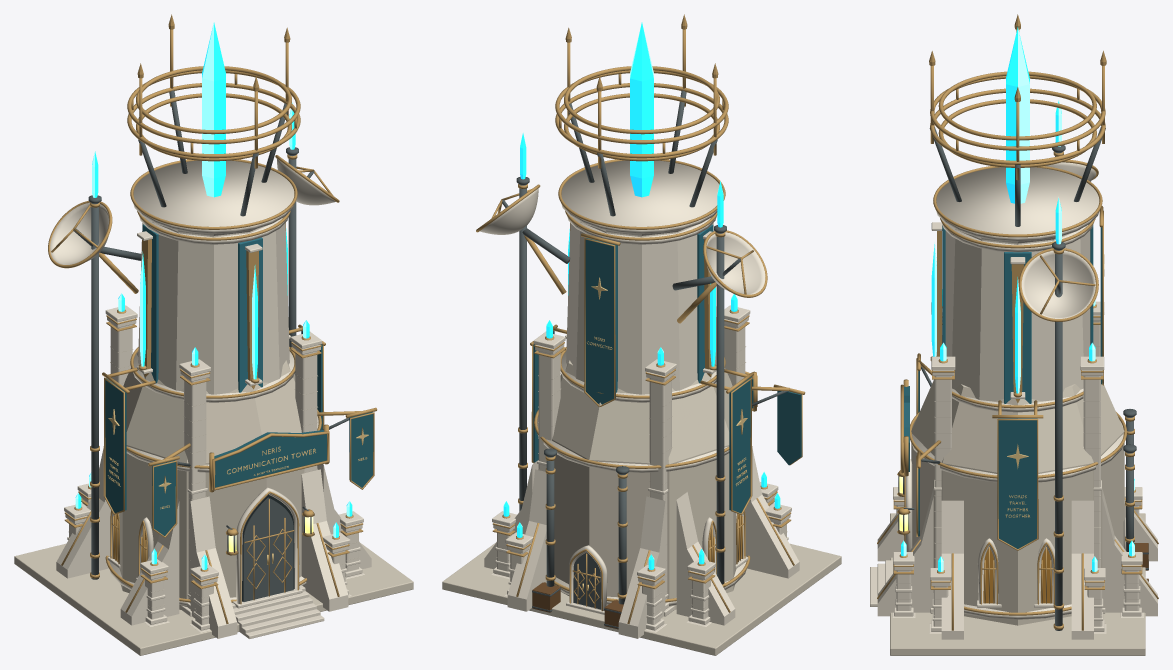
Rendered from Neris-Communication-Tower.glb.
The picture shows the model from 3 angles, left to right: view 1: azimuth 30°, elevation 25°; view 2: azimuth 150°, elevation 25°; view 3: azimuth 270°, elevation 25°; orthographic projection.
Visible parts, largest first — view 1: Pale Carved Stone, Ivory Limestone, Aged Gold, Patinated Iron, Neris Teal Banner, Teal Enamel Roof, Cyan Relay Crystal, Crystal Bright Facets, Polished Gold Edge; view 2: Pale Carved Stone, Ivory Limestone, Aged Gold, Patinated Iron, Neris Teal Banner, Cyan Relay Crystal, Teal Enamel Roof, Dark Walnut; view 3: Pale Carved Stone, Ivory Limestone, Aged Gold, Neris Teal Banner, Patinated Iron, Teal Enamel Roof, Cyan Relay Crystal, Crystal Bright Facets, Amber Window Glass.
Part boxes in pixels (x1=…): Pale Carved Stone: x1=50, y1=158, x2=371, y2=638; Ivory Limestone: x1=14, y1=346, x2=413, y2=655; Aged Gold: x1=48, y1=14, x2=377, y2=623; Patinated Iron: x1=73, y1=90, x2=358, y2=601; Neris Teal Banner: x1=105, y1=330, x2=373, y2=535; Teal Enamel Roof: x1=142, y1=224, x2=262, y2=392; Cyan Relay Crystal: x1=75, y1=22, x2=352, y2=569; Crystal Bright Facets: x1=75, y1=22, x2=349, y2=569; Polished Gold Edge: x1=107, y1=409, x2=368, y2=564; Pale Carved Stone: x1=479, y1=160, x2=799, y2=638; Ivory Limestone: x1=442, y1=346, x2=841, y2=655; Aged Gold: x1=476, y1=14, x2=805, y2=623; Patinated Iron: x1=502, y1=90, x2=788, y2=628; Neris Teal Banner: x1=533, y1=238, x2=801, y2=513; Cyan Relay Crystal: x1=503, y1=22, x2=780, y2=569; Teal Enamel Roof: x1=616, y1=224, x2=713, y2=392; Dark Walnut: x1=532, y1=582, x2=623, y2=629; Pale Carved Stone: x1=870, y1=162, x2=1157, y2=639; Ivory Limestone: x1=890, y1=346, x2=1145, y2=655; Aged Gold: x1=877, y1=14, x2=1158, y2=630; Neris Teal Banner: x1=904, y1=227, x2=1102, y2=548; Patinated Iron: x1=898, y1=127, x2=1148, y2=630; Teal Enamel Roof: x1=942, y1=225, x2=1093, y2=403; Cyan Relay Crystal: x1=901, y1=27, x2=1134, y2=571; Crystal Bright Facets: x1=903, y1=28, x2=1134, y2=571; Amber Window Glass: x1=983, y1=548, x2=1052, y2=603.
Bounding box in the file's own units: 13.11 × 25 × 11.65.
